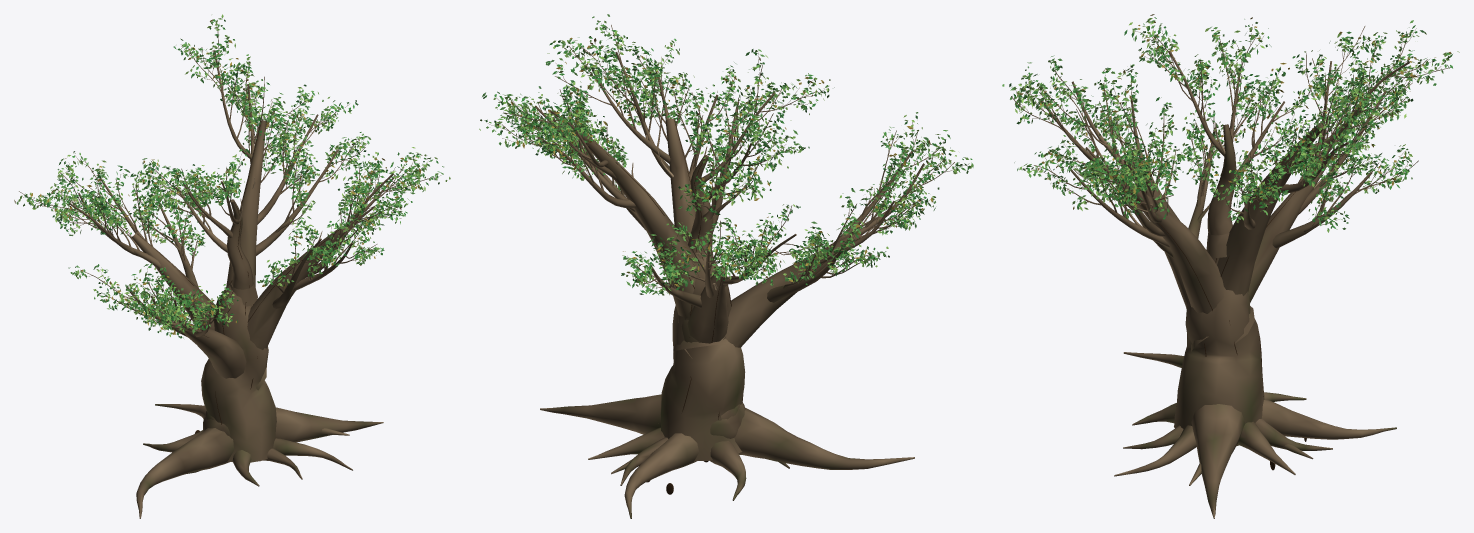
Rendered from ancient_tree_05_lod1.glb.
3 renders of one model, left to right at view 1: azimuth 30°, elevation 25°; view 2: azimuth 150°, elevation 25°; view 3: azimuth 270°, elevation 25°, orthographic. The views are drawn at different scales.
Parts seen in each view (by area): view 1: AncientTreeWood_LOD1, AncientLeaves_LOD1, FineBranches_LOD1; view 2: AncientTreeWood_LOD1, AncientLeaves_LOD1, FineBranches_LOD1; view 3: AncientTreeWood_LOD1, AncientLeaves_LOD1, FineBranches_LOD1.
Part boxes in pixels (x1=…): AncientTreeWood_LOD1: x1=19, y1=27, x2=432, y2=518; AncientLeaves_LOD1: x1=14, y1=14, x2=450, y2=338; FineBranches_LOD1: x1=23, y1=26, x2=440, y2=332; AncientTreeWood_LOD1: x1=502, y1=25, x2=954, y2=518; AncientLeaves_LOD1: x1=479, y1=14, x2=973, y2=295; FineBranches_LOD1: x1=488, y1=23, x2=968, y2=290; AncientTreeWood_LOD1: x1=1011, y1=26, x2=1450, y2=518; AncientLeaves_LOD1: x1=1002, y1=14, x2=1459, y2=232; FineBranches_LOD1: x1=1014, y1=24, x2=1450, y2=226.
Size of the model in its own units: 20.94 by 22.58 by 20.93.
